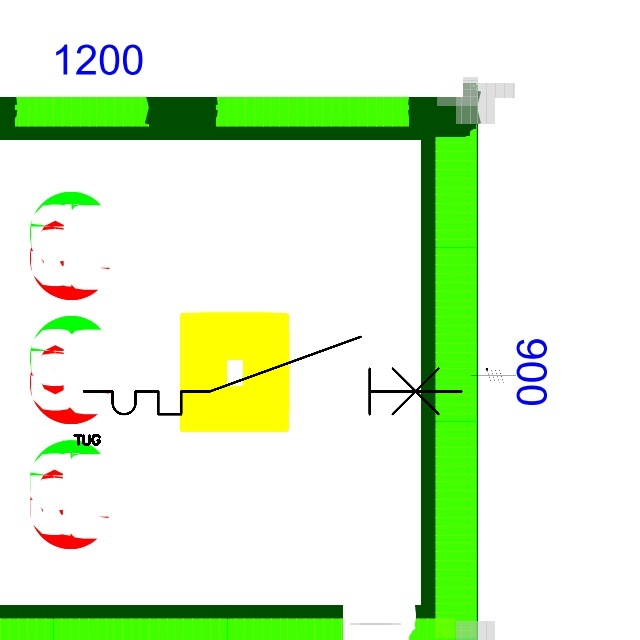interruptor_termomagnetico: (74, 327, 471, 424)
